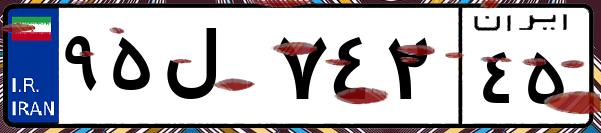2: (385, 28, 445, 110)
4: (330, 28, 385, 110), (475, 38, 525, 113)
5: (525, 38, 570, 115), (110, 28, 158, 98)
7: (270, 28, 330, 110)
9: (57, 26, 110, 100)
ل: (158, 20, 270, 120)
